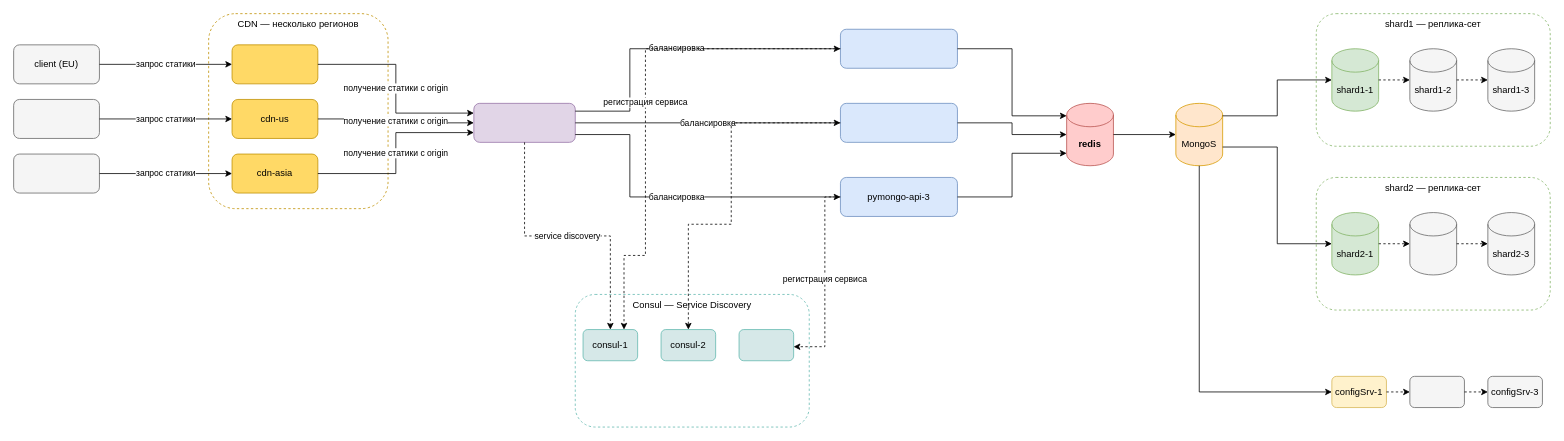
The diagram is 1564 pixels wide and 441 high, and some of its shapes have lost their labels. Each missing label, with the centre of its shape:
"API Gateway" goes at point 524,122.
"cdn-eu" goes at point 274,64.
"client (Asia)" goes at point 56,173.
"client (US)" goes at point 56,118.
"configSrv-2" goes at point 1436,392.
"consul-3" goes at point 766,345.
"pymongo-api-1" goes at point 898,48.
"pymongo-api-2" goes at point 898,122.
"shard2-2" goes at point 1433,243.
